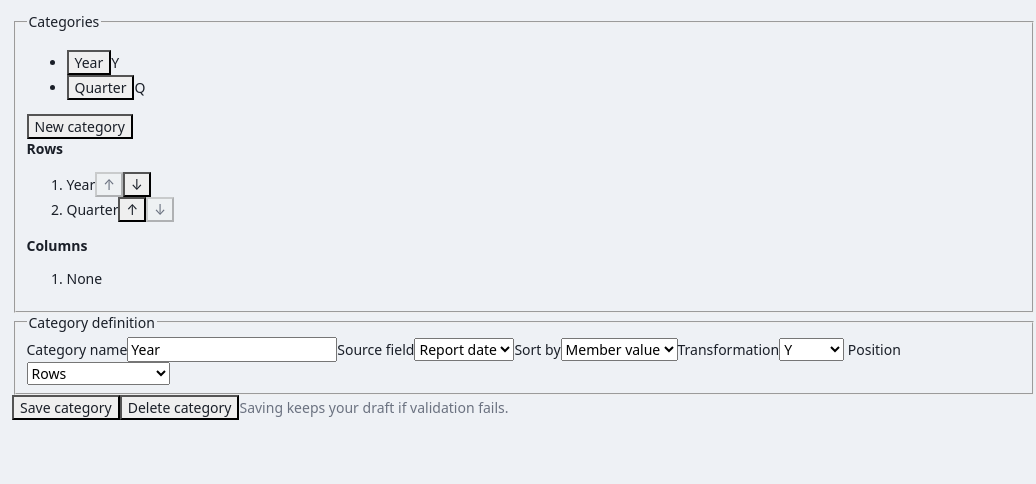
Scenario: shows selectable categories and retains the draft when guarded deletion has dependencies
Replace the text in the field labelled "Category name" with "Draft year" at {"x": 232, "y": 349}, box [127,336,337,362]
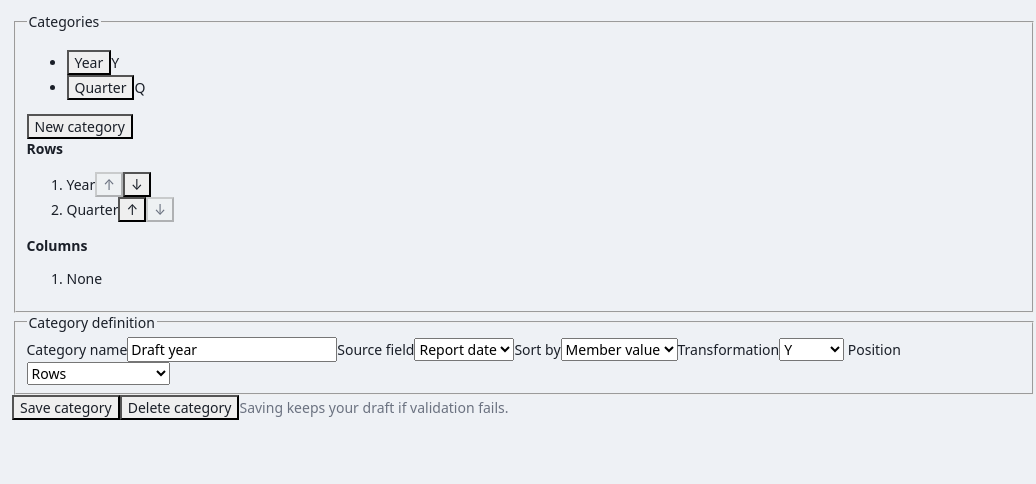
Click the button "Delete category" at {"x": 180, "y": 408}, box [120,395,240,420]
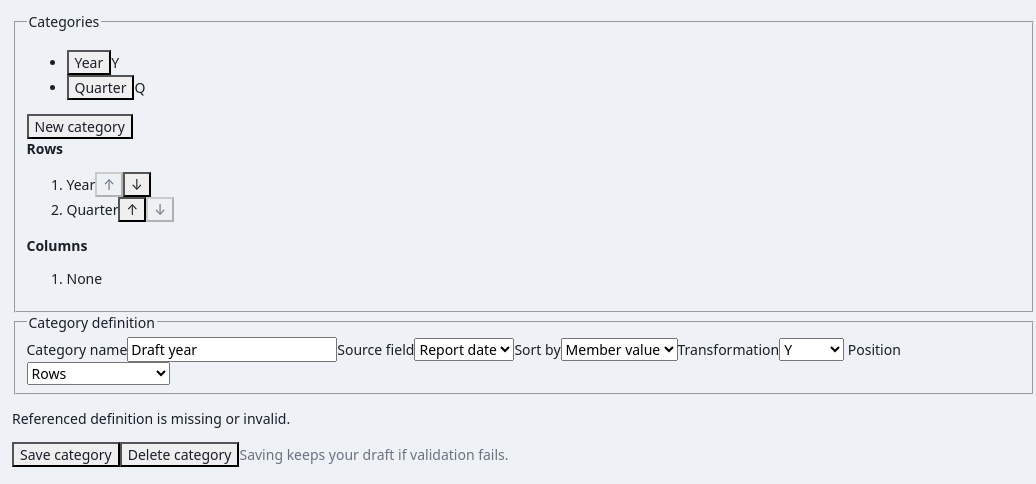
Now the message "Referenced definition is missing or invalid." is shown, box [12,409,290,428]
